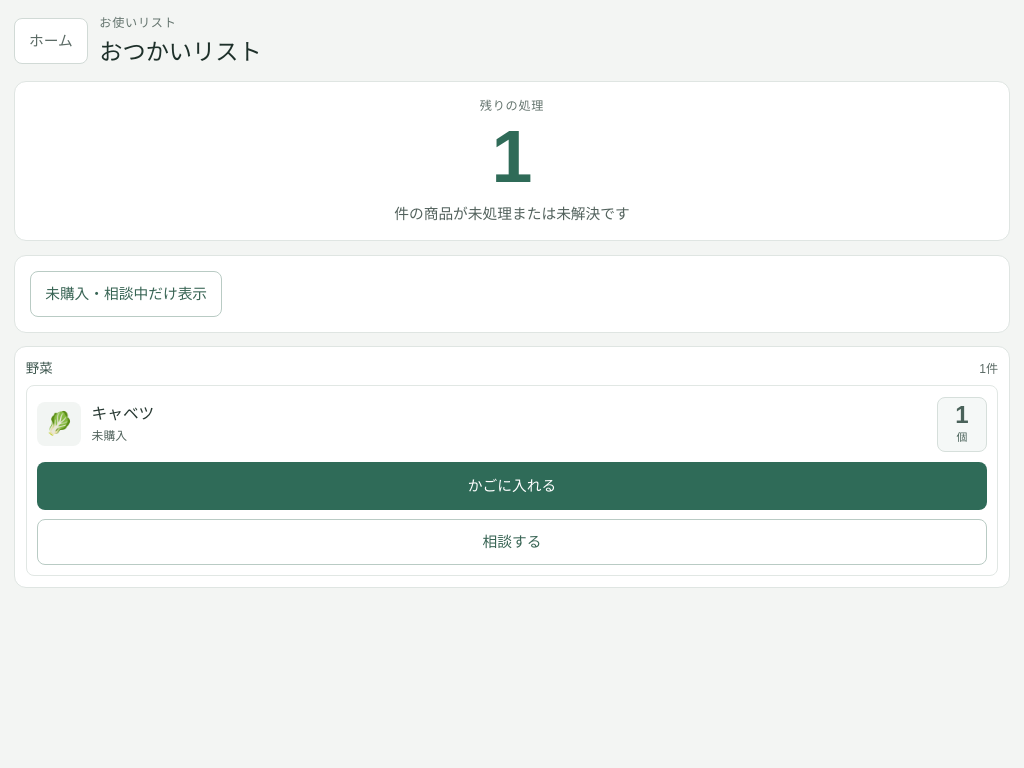
Test: ShoppingListPage buyer flow › keeps consultation input and queued state when immediate sharing is cancelled
Click the button "相談する".
click(512, 542)  # box [37,519,987,565]
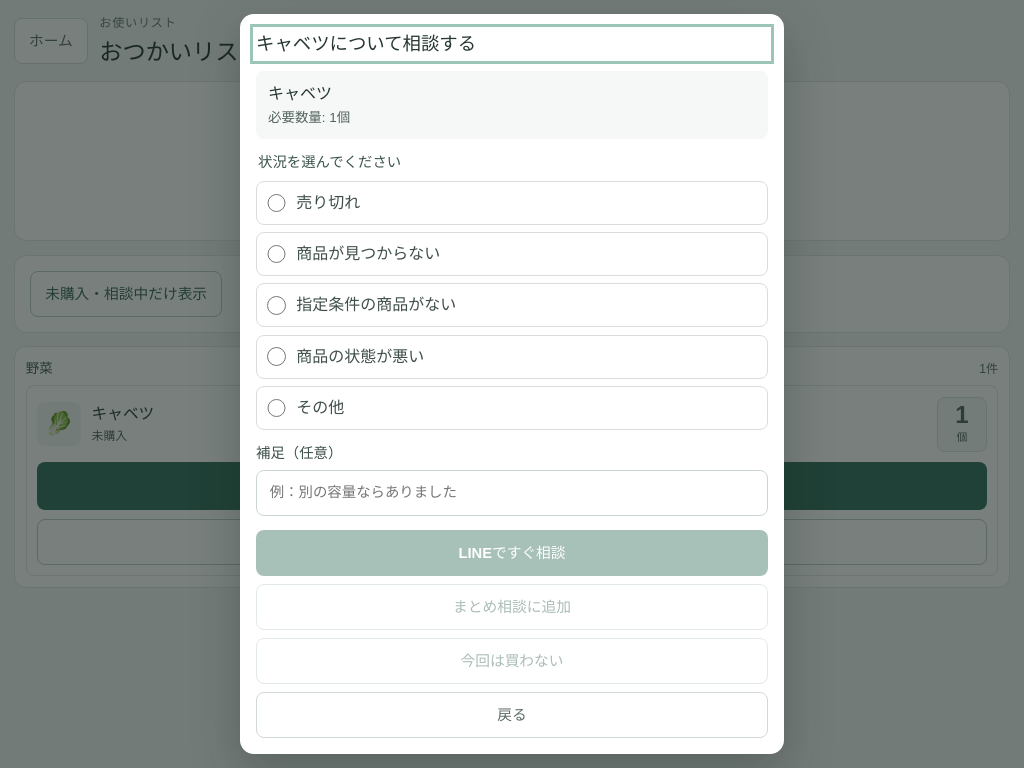
Click the radio button labelled "売り切れ".
click(277, 203)  # box [267,194,286,212]
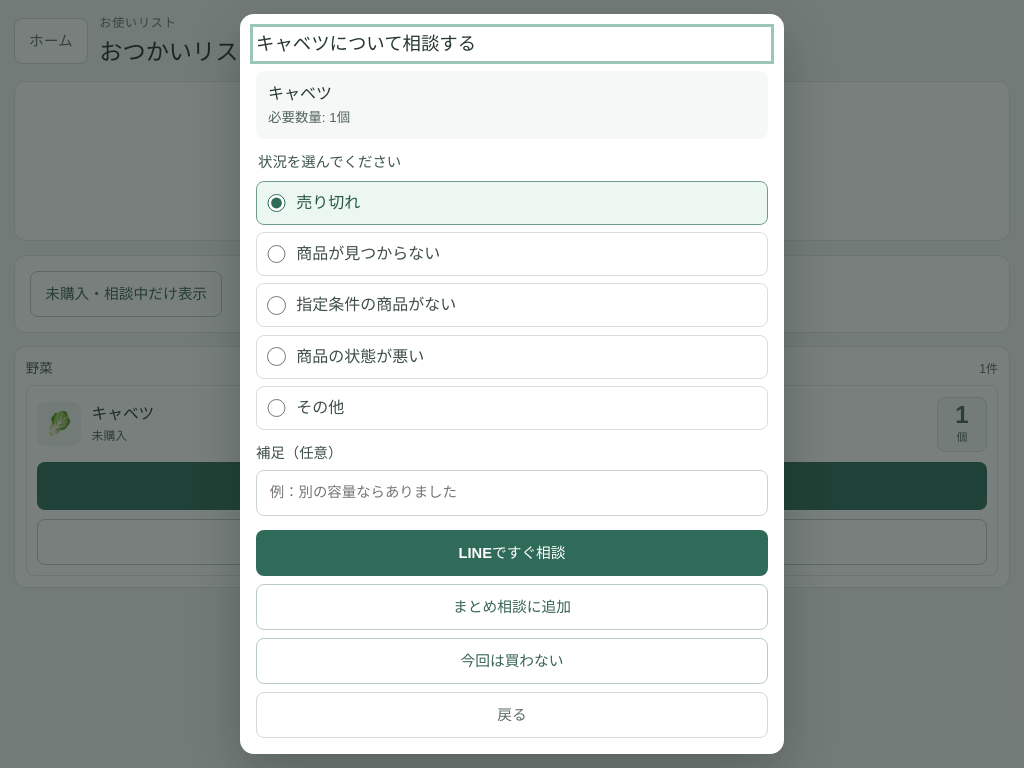
Click the button "LINEですぐ相談".
click(512, 553)  # box [256,530,768,576]
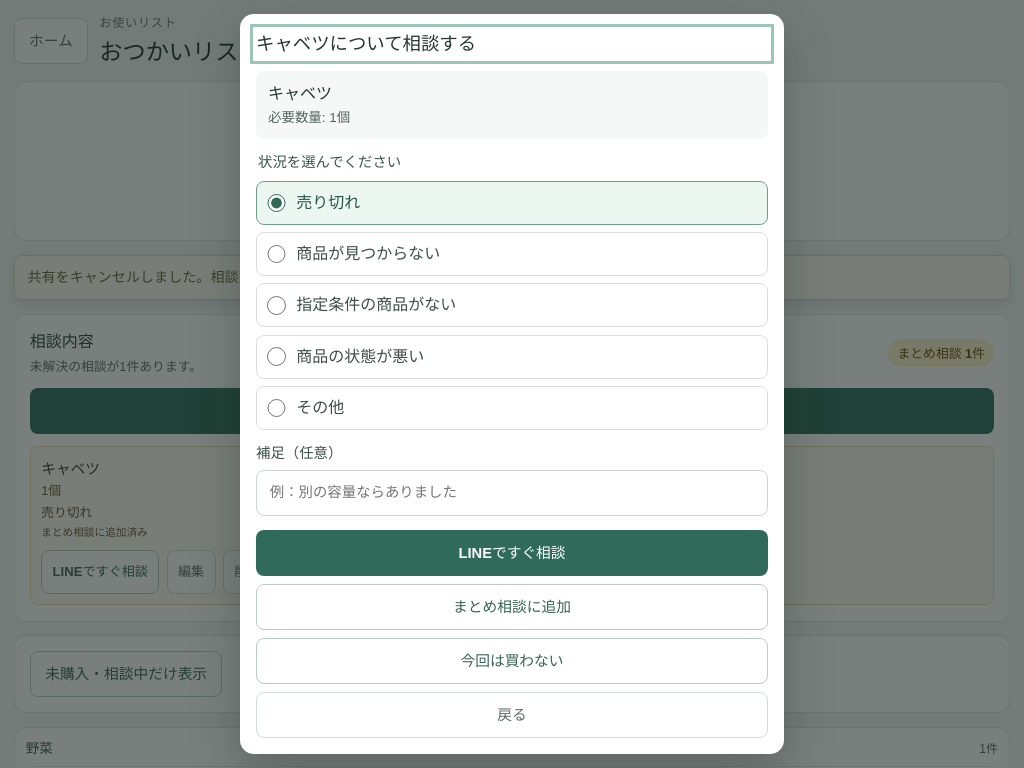
Check: the radio button labelled "売り切れ" is checked, box [267,194,286,212]
Check: the dialog is shown, box [240,14,784,754]
Check: the text "相談内容はそのまま残しています。" is shown, box [27,269,434,285]
